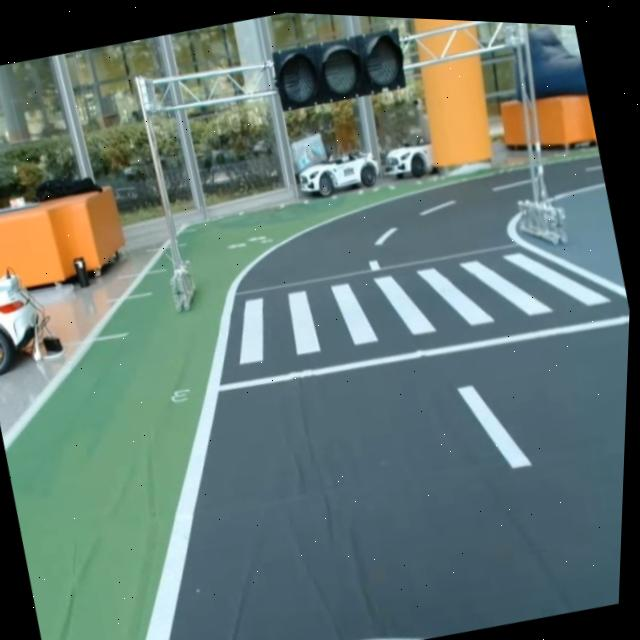traffic-light: (260, 15, 416, 122)
